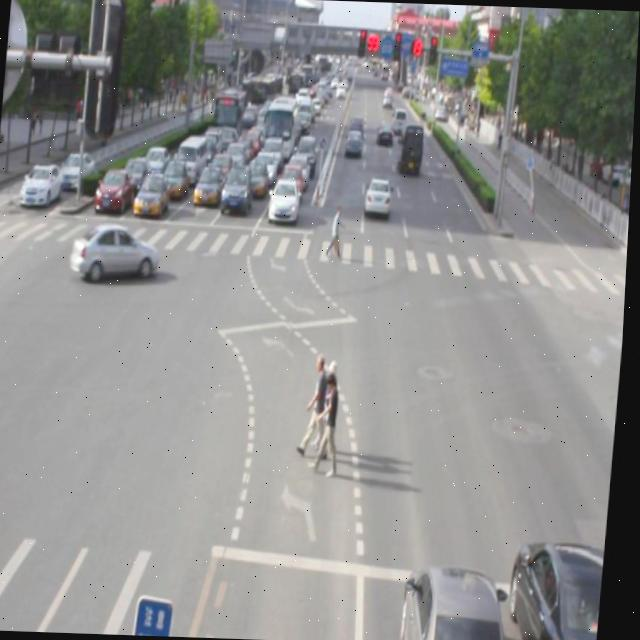car: (504, 542, 610, 640), (401, 565, 517, 640), (72, 220, 164, 282)
